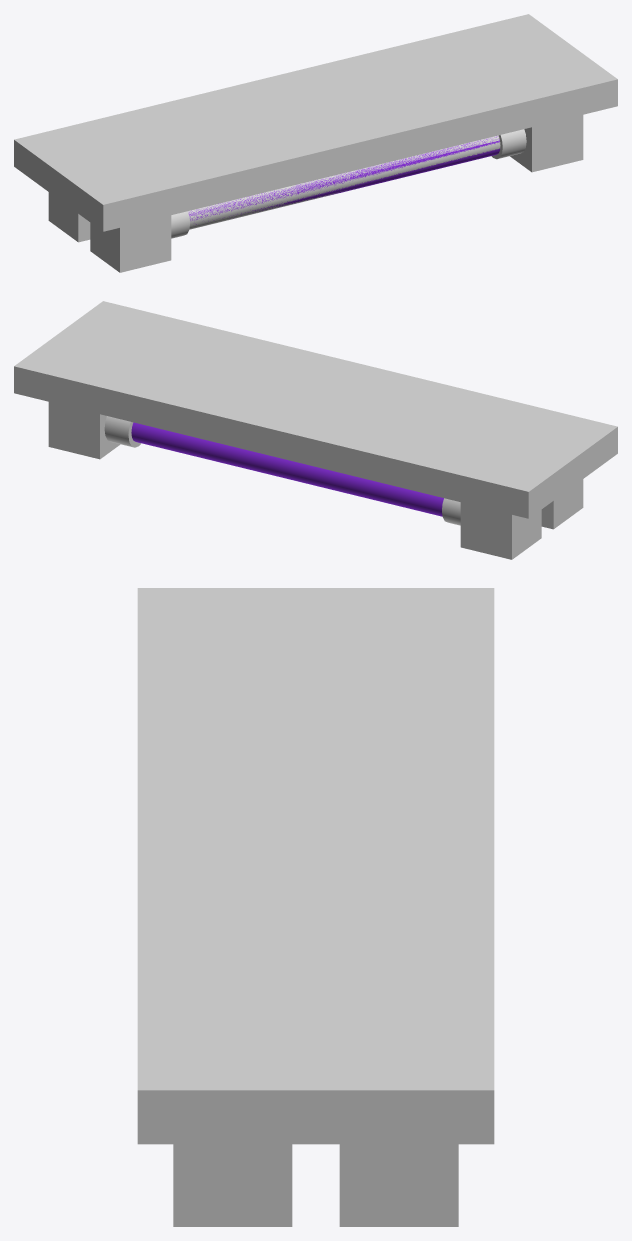
File: Light_2.fbx
3 renders of one model, top to bottom at view 1: azimuth 30°, elevation 25°; view 2: azimuth 150°, elevation 25°; view 3: azimuth 270°, elevation 25°, orthographic. The views are drawn at different scales.
Parts seen in each view (by area): view 1: Lamp; view 2: Lamp; view 3: Lamp.
Boxes of the visible parts, bbox=[...] form: Lamp: bbox=[14, 14, 617, 272]; Lamp: bbox=[14, 301, 617, 559]; Lamp: bbox=[137, 588, 494, 1226].
Size of the model in its own units: 200 by 30 by 60.
